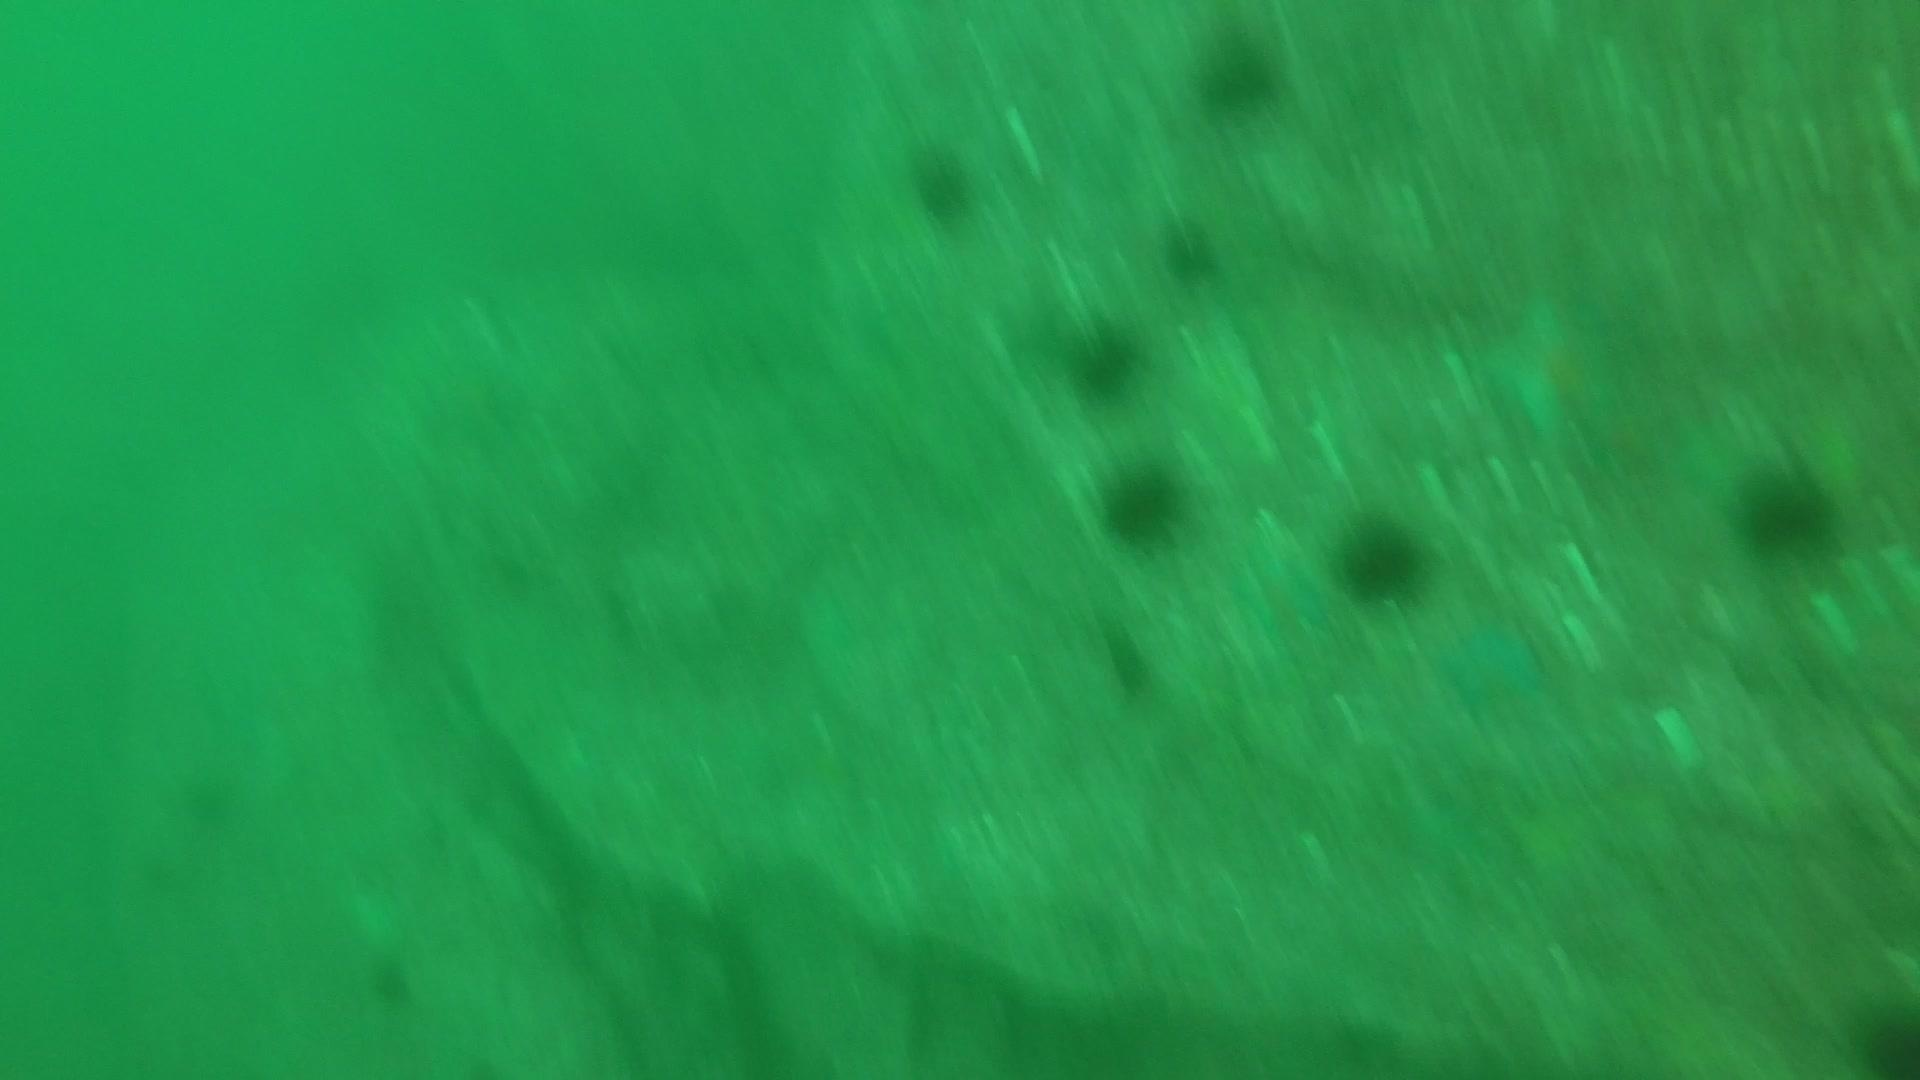echinus: (1730, 458, 1842, 558), (1329, 508, 1433, 607), (1095, 455, 1192, 550), (1188, 36, 1288, 119), (1062, 316, 1149, 404), (905, 140, 981, 227), (1850, 997, 1920, 1079), (1156, 214, 1226, 287), (1098, 626, 1160, 703), (363, 949, 419, 1010)
starfish: (1473, 287, 1633, 452), (1429, 607, 1549, 719)
